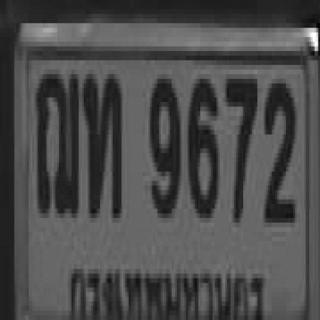A12: (34, 67, 79, 211)
A23: (82, 70, 120, 213)
N02: (263, 76, 293, 216)
N06: (186, 74, 216, 213)
N07: (223, 72, 256, 216)
N09: (148, 74, 179, 213)
P04: (66, 255, 268, 320)
